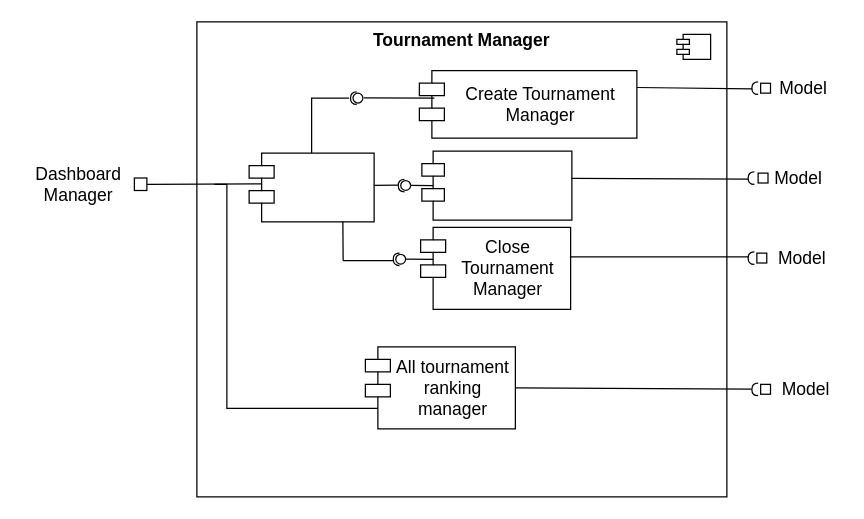
This 864x519 diagram has some shape labels left out. The shapes that lost their labels are listed below. From the top down, each one's centre as x and y in pixels, then its label:
At [311,187]: "Input Manager".
At [496,185]: "Invite Educator Manager".
